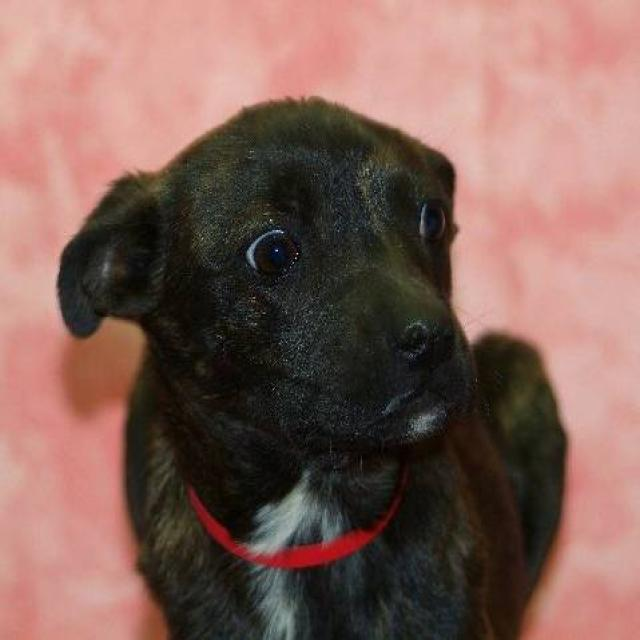dog: (55, 91, 569, 638)
